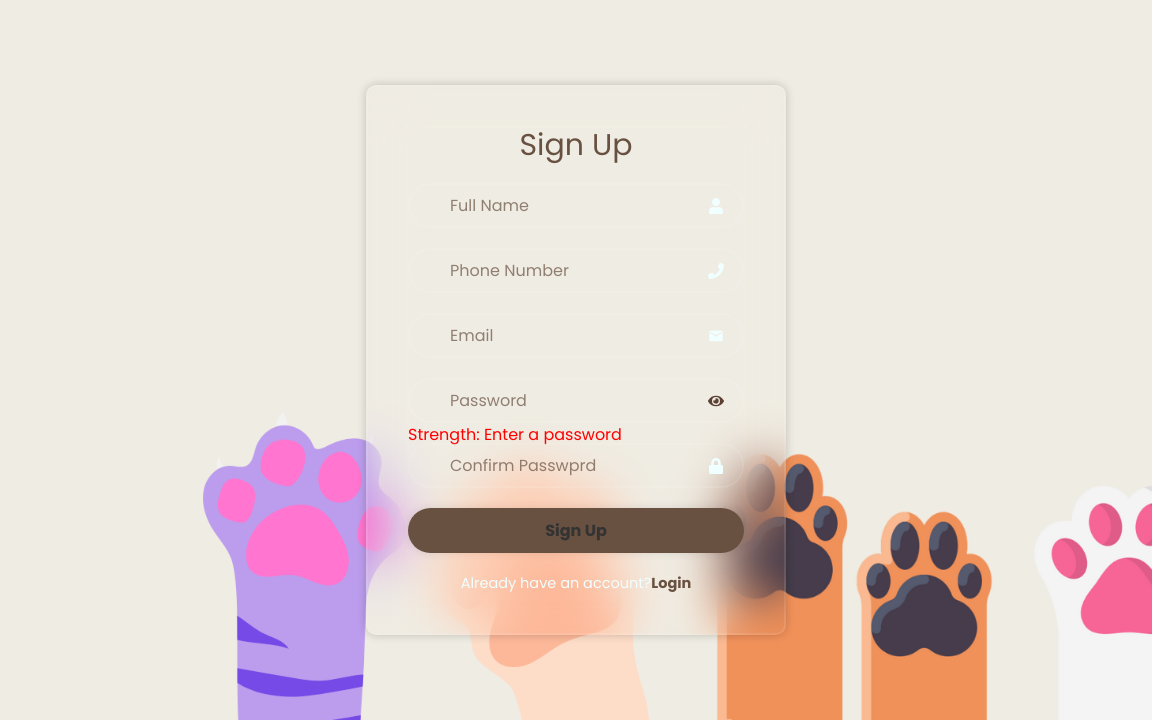
Scenario: Register Component › Should show validation errors for empty fields
The image size is (1152, 720).
Click the button "Sign Up".
click(576, 530)  # box x1=408 y1=508 x2=744 y2=553
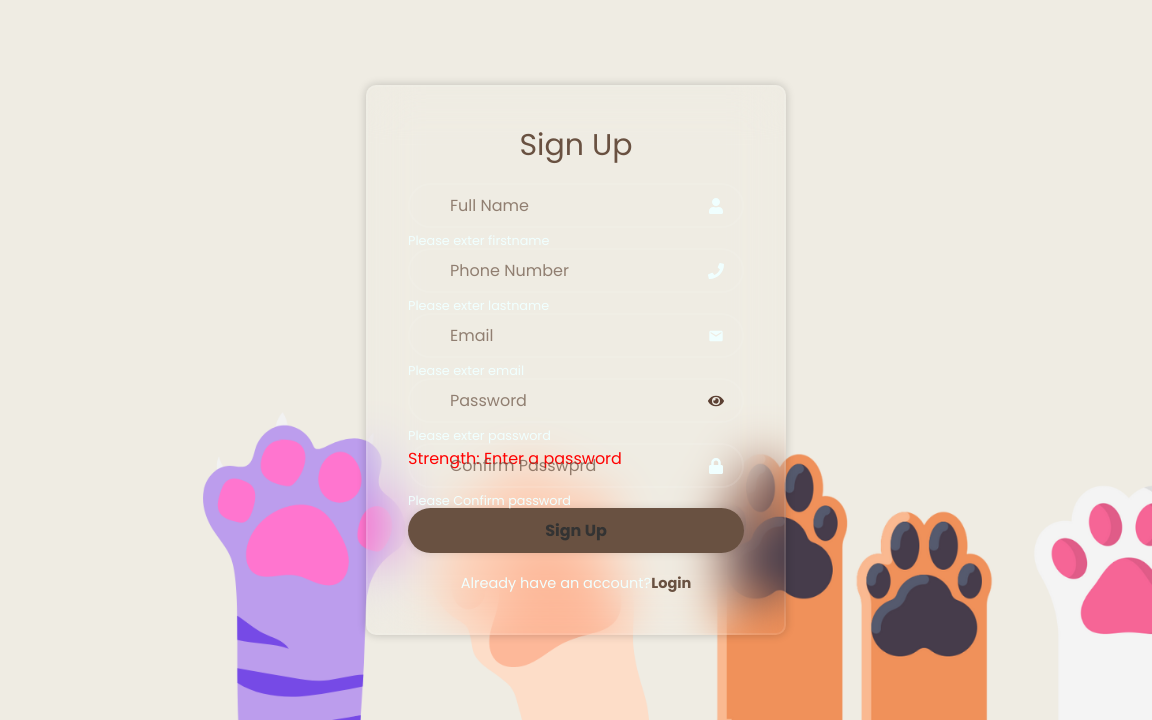
Expected: the text "Please exter firstname" is shown, x1=408 y1=232 x2=550 y2=249
Expected: the text "Please exter lastname" is shown, x1=408 y1=297 x2=549 y2=314
Expected: the text "Please exter email" is shown, x1=408 y1=362 x2=524 y2=379
